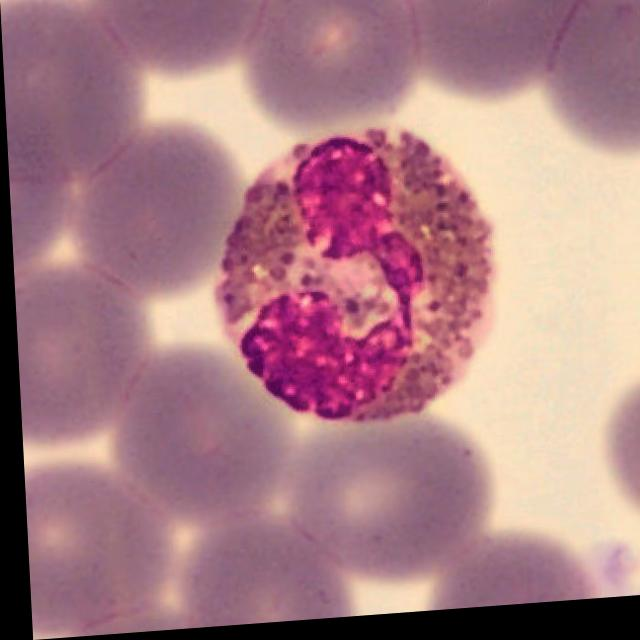Eosinofilo: (213, 132, 491, 427)
